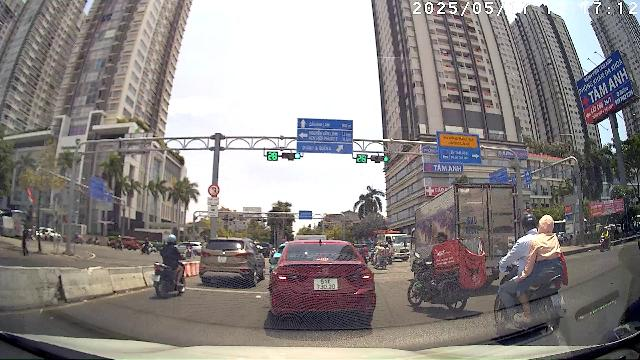103c-cam-oto-re-trai: (208, 184, 220, 196)
